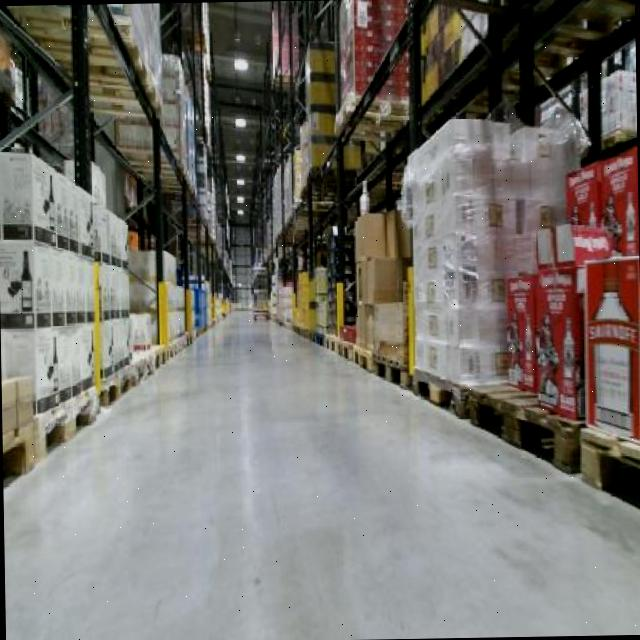pallet: (458, 368, 584, 480), (32, 373, 103, 476), (408, 362, 464, 424), (362, 346, 414, 398), (100, 356, 140, 410), (346, 345, 376, 373)
